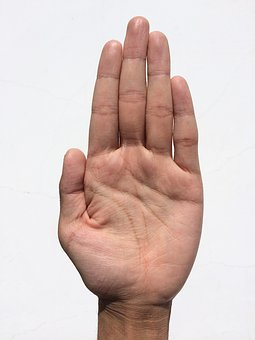palm: (78, 155, 203, 297)
